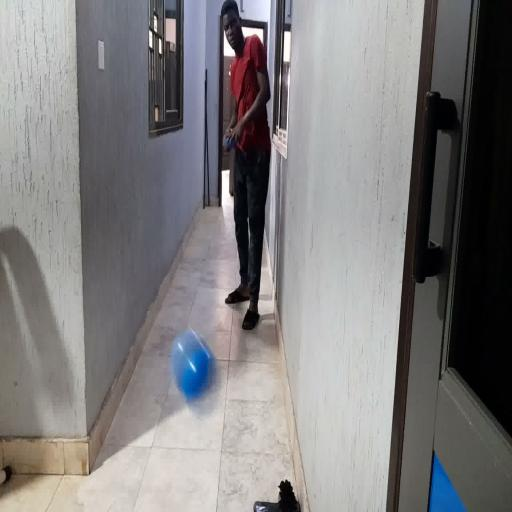plastic-ball: (172, 331, 214, 400)
